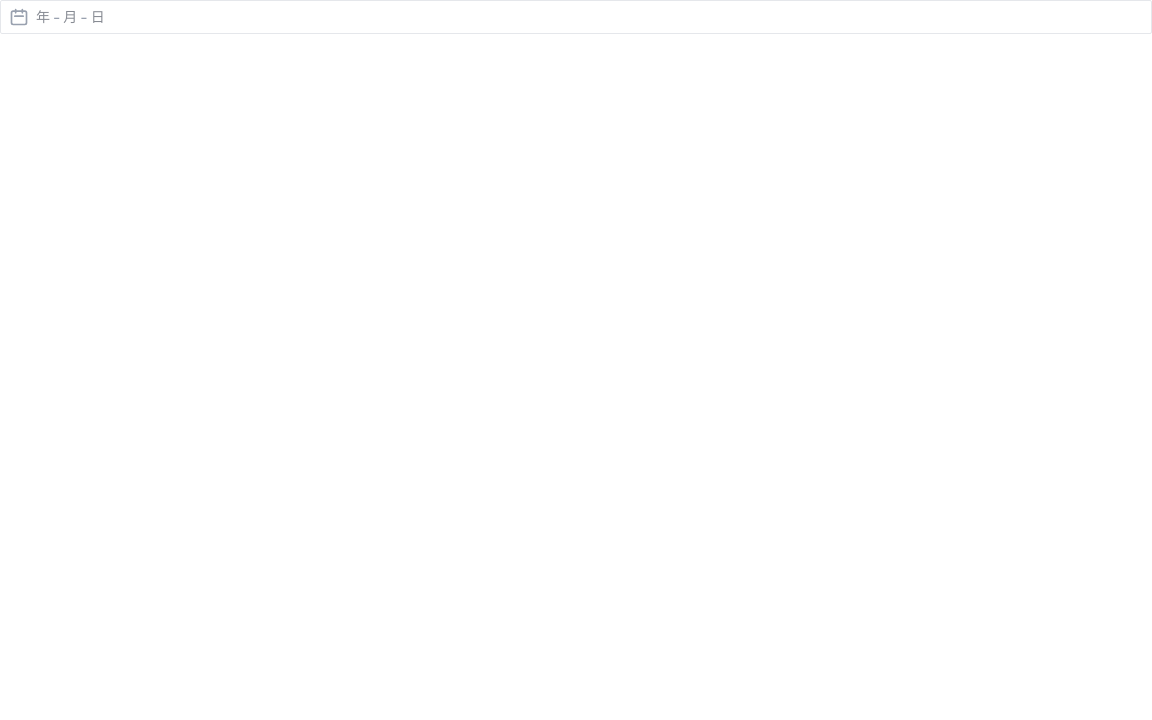
Test: DatePicker › 錯誤訊息顯示測試 › 啟用錯誤訊息時應該顯示錯誤
The width and height of the screenshot is (1152, 720).
Click the field named "year" at (43, 17), box [33, 7, 53, 27]
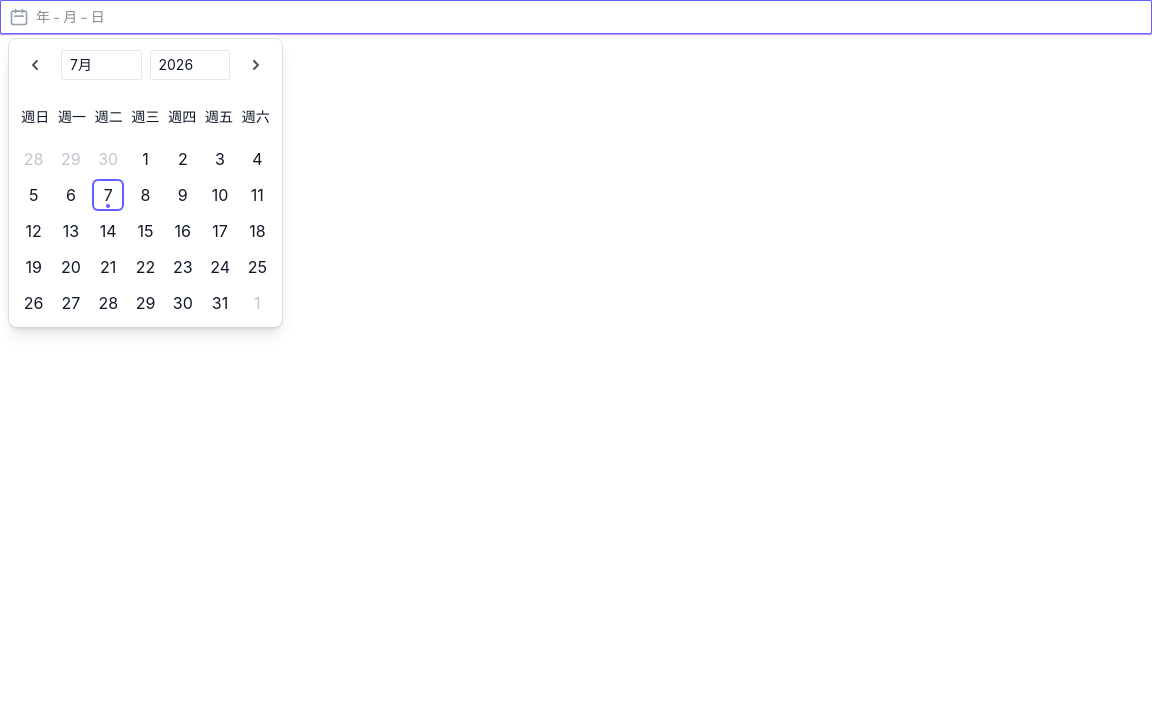
Press Tab
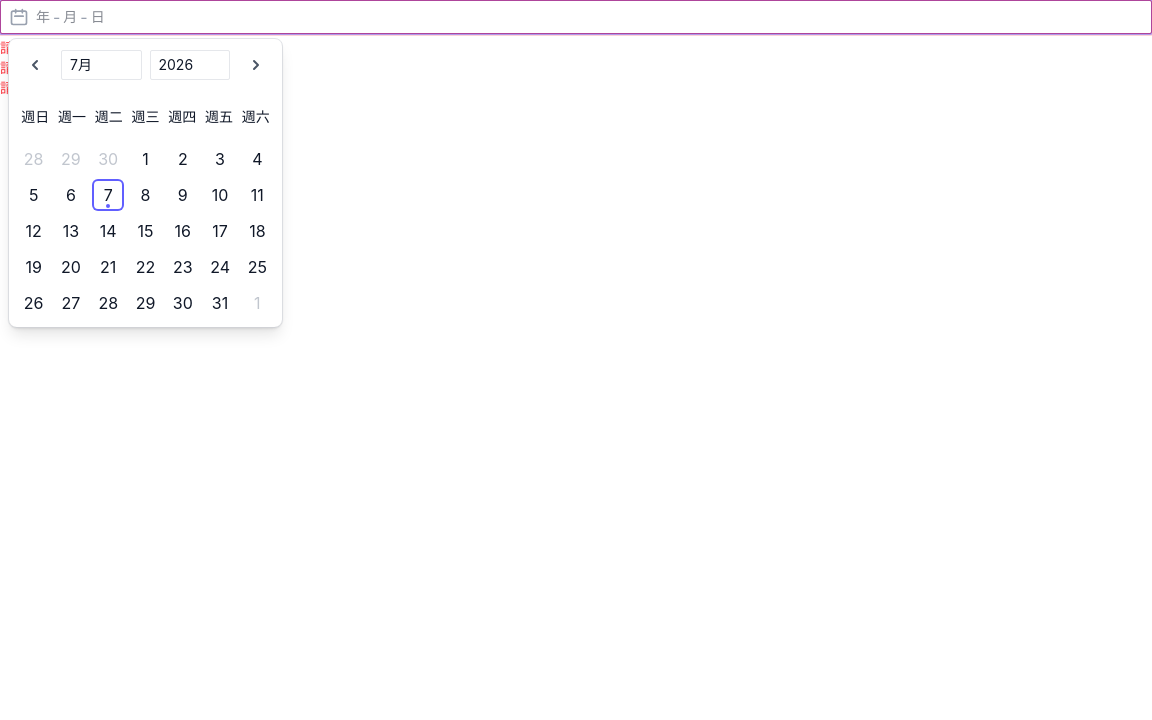
Check: the text "請輸入年份" is shown, box [0, 39, 70, 56]
